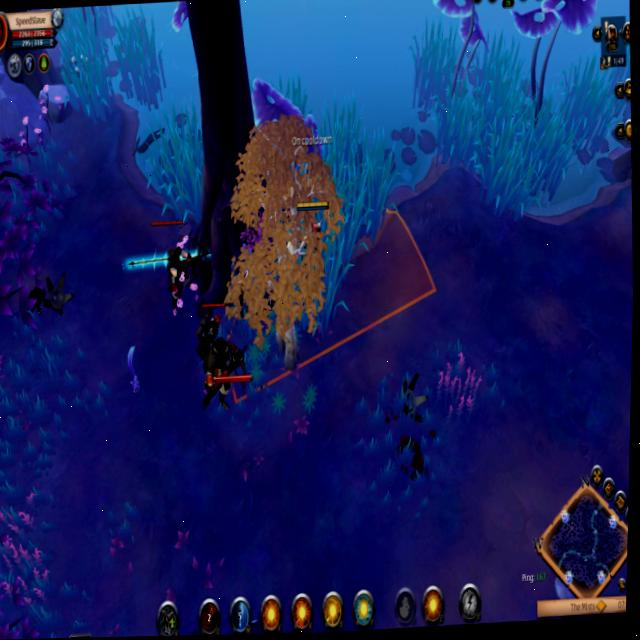ore: (192, 292, 252, 422), (147, 214, 196, 320)
red: (289, 194, 333, 272)
silver: (223, 201, 443, 411)
wisp caged: (216, 72, 389, 400)
